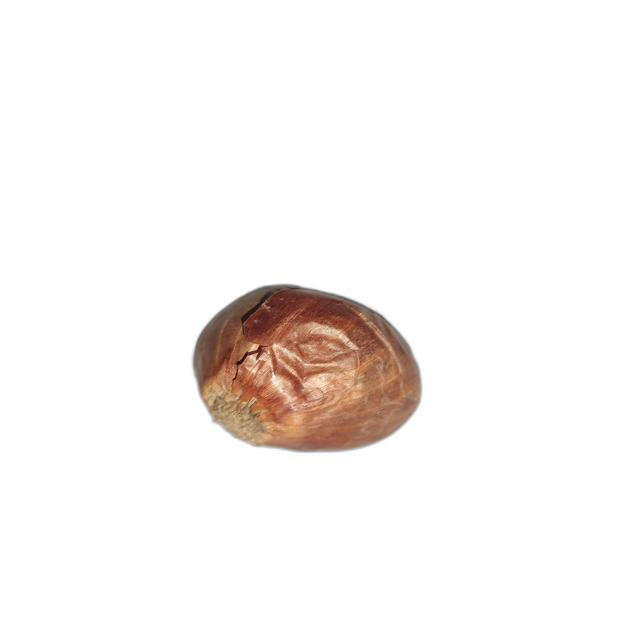onion: (191, 284, 423, 454)
